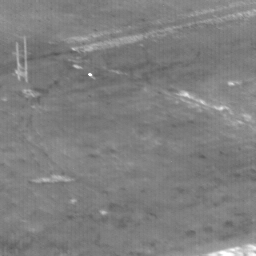aircraft: (90, 74, 92, 76)
